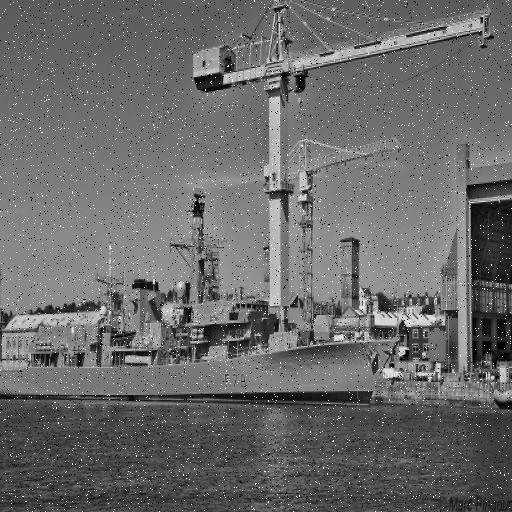Fragata: (1, 183, 405, 408)
